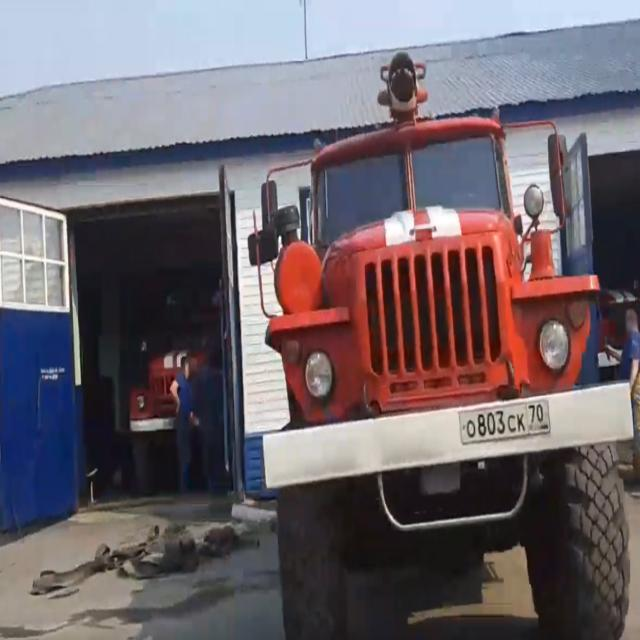fire fighting vehicle: (247, 55, 635, 638), (128, 286, 222, 494)
